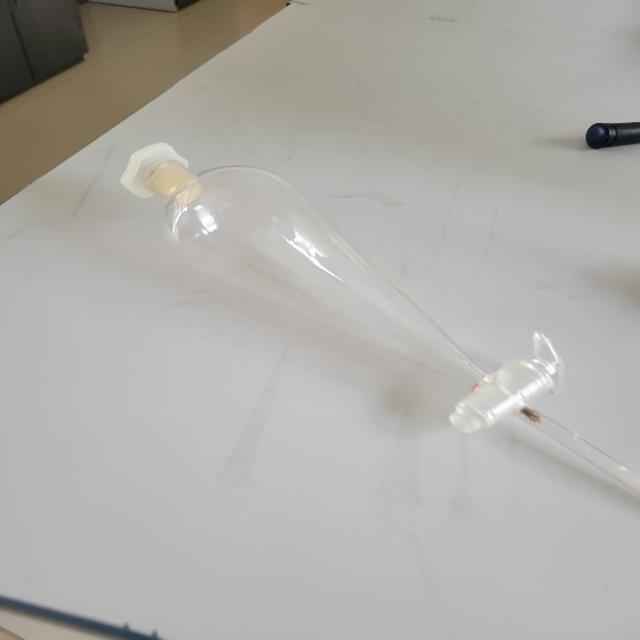Separating_Funnel: (93, 119, 640, 518)
